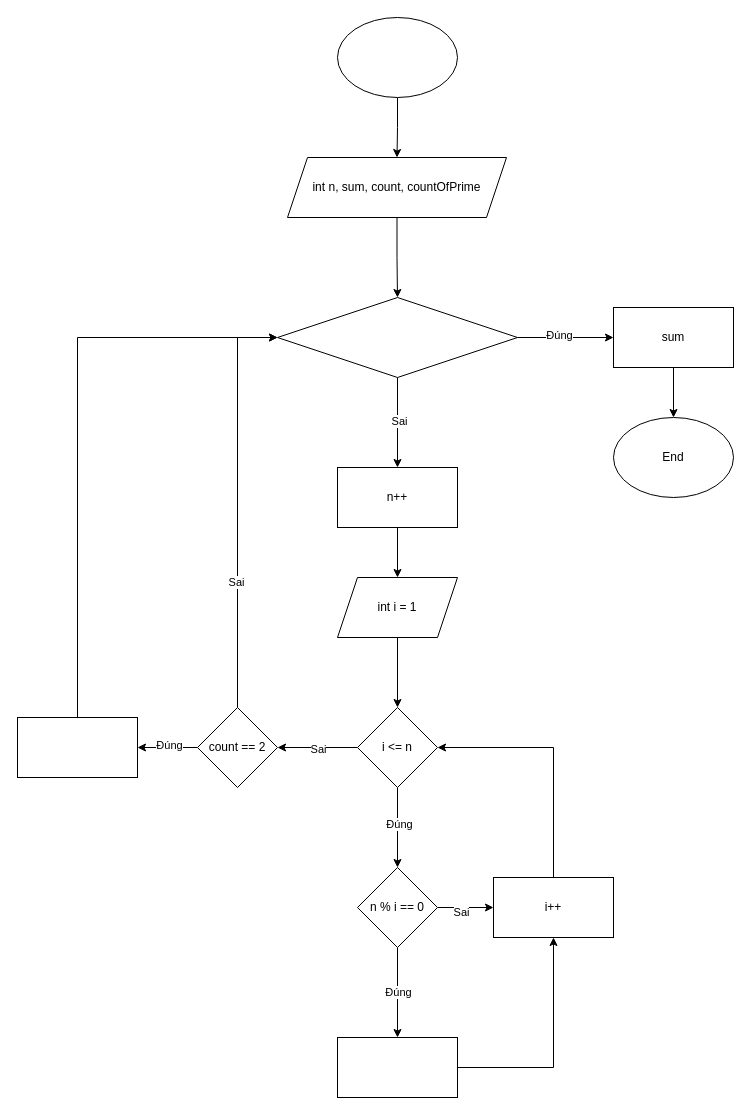
Some shapes in this 751 by 1115 pixel diagram are drawn without their labels. Each missing label, with the box of its shape:
count++: (336, 1036, 458, 1098)
countOfPrime == 20: (276, 296, 518, 378)
Start: (336, 16, 458, 98)
sum += n: (16, 716, 138, 778)
